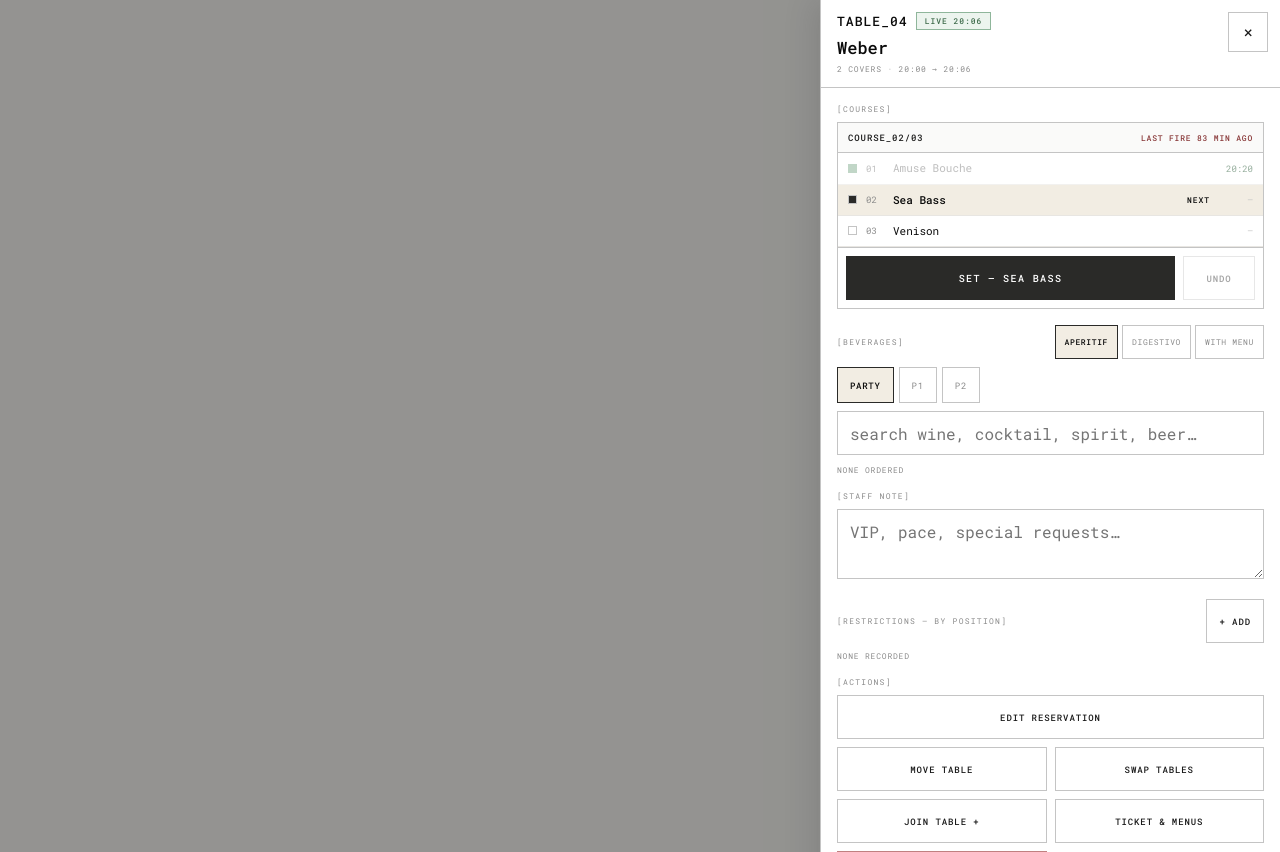
TableSheet — beverages › searches the whole catalog, not only wine
The width and height of the screenshot is (1280, 852).
Type "negro" into the field named "Search beverages" at (1050, 433), box [837,411,1264,455]
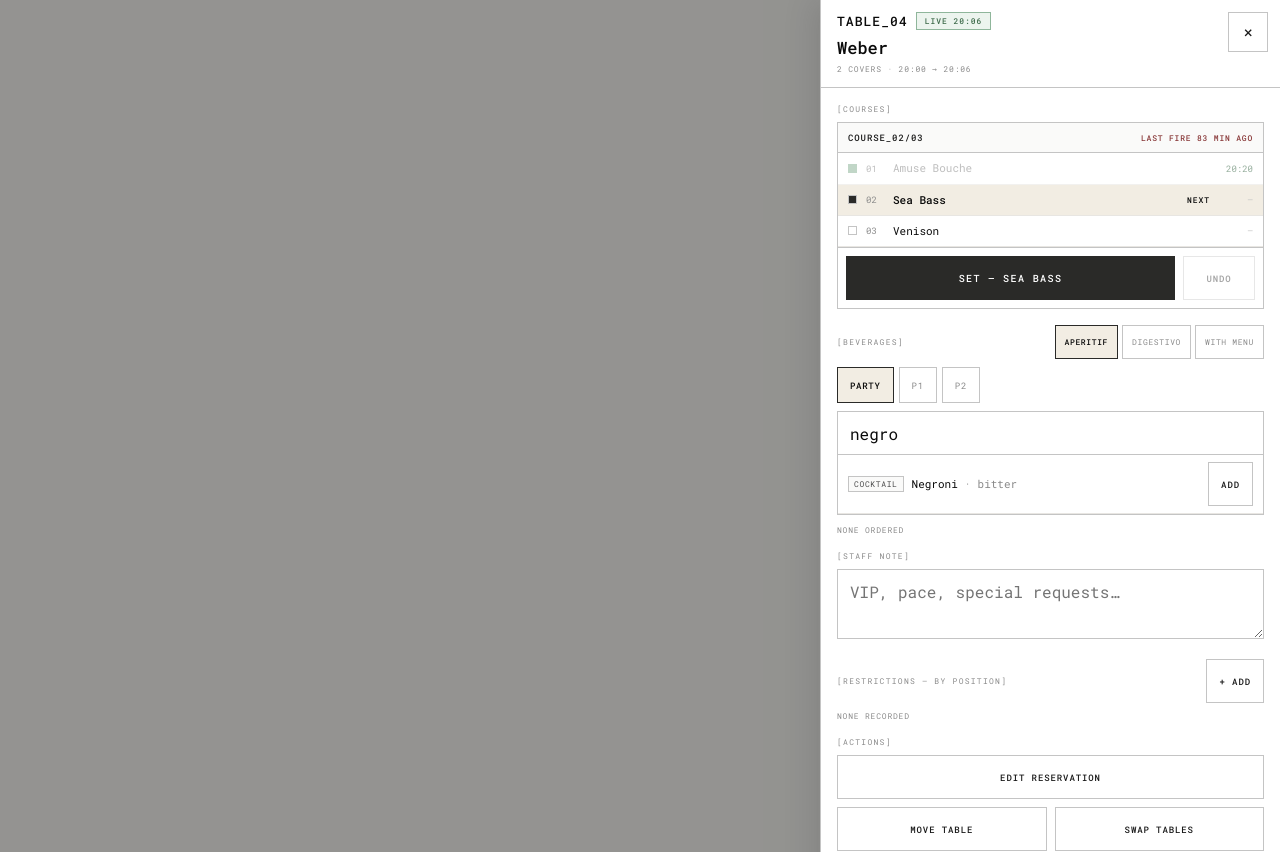
Result: the text "Negroni" is shown at [912,476,958,491]
Replace the text in the field named "Search beverages" with "human" at (1050, 433), box [837,411,1264,455]
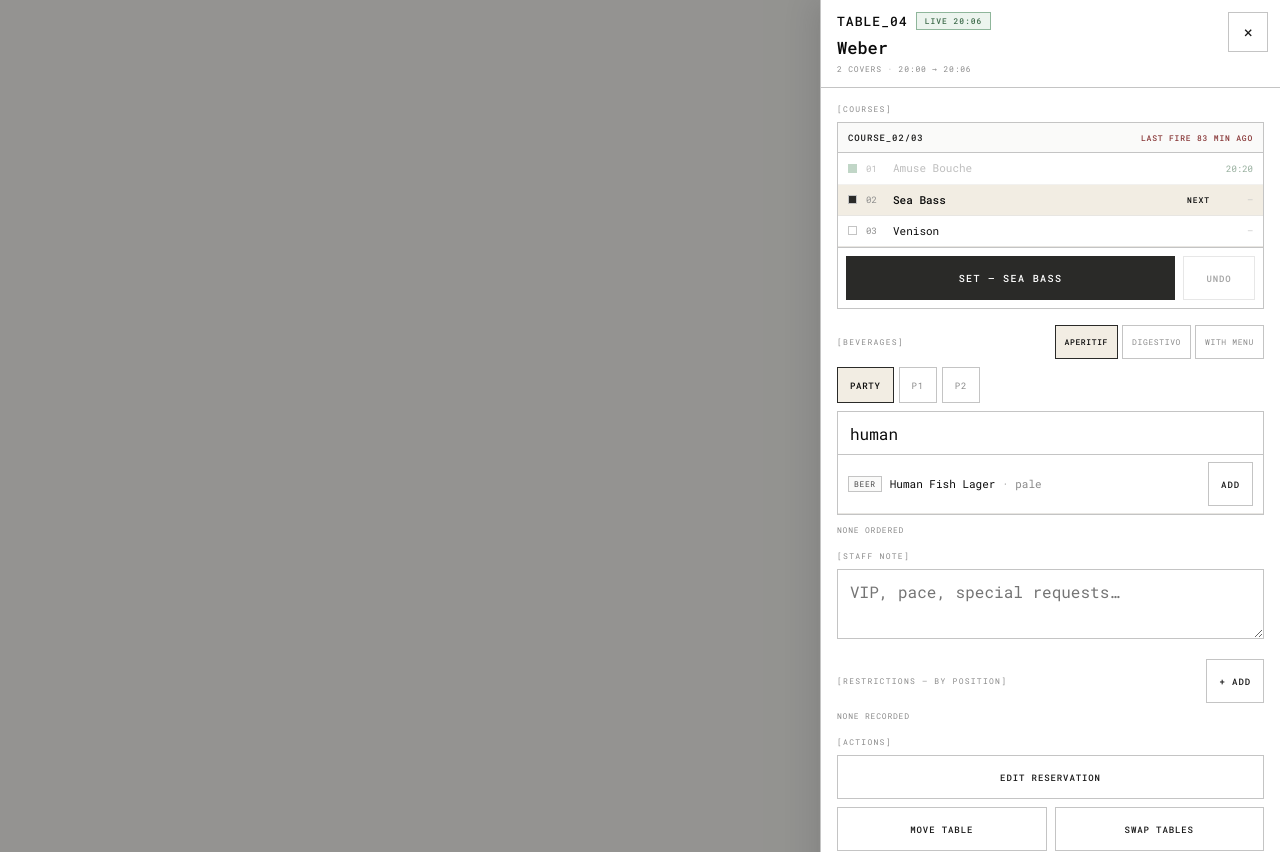
Result: the text "Human Fish Lager" is shown at [890,476,995,491]
Replace the text in the field named "Search beverages" with "negri" at (1050, 433), box [837,411,1264,455]
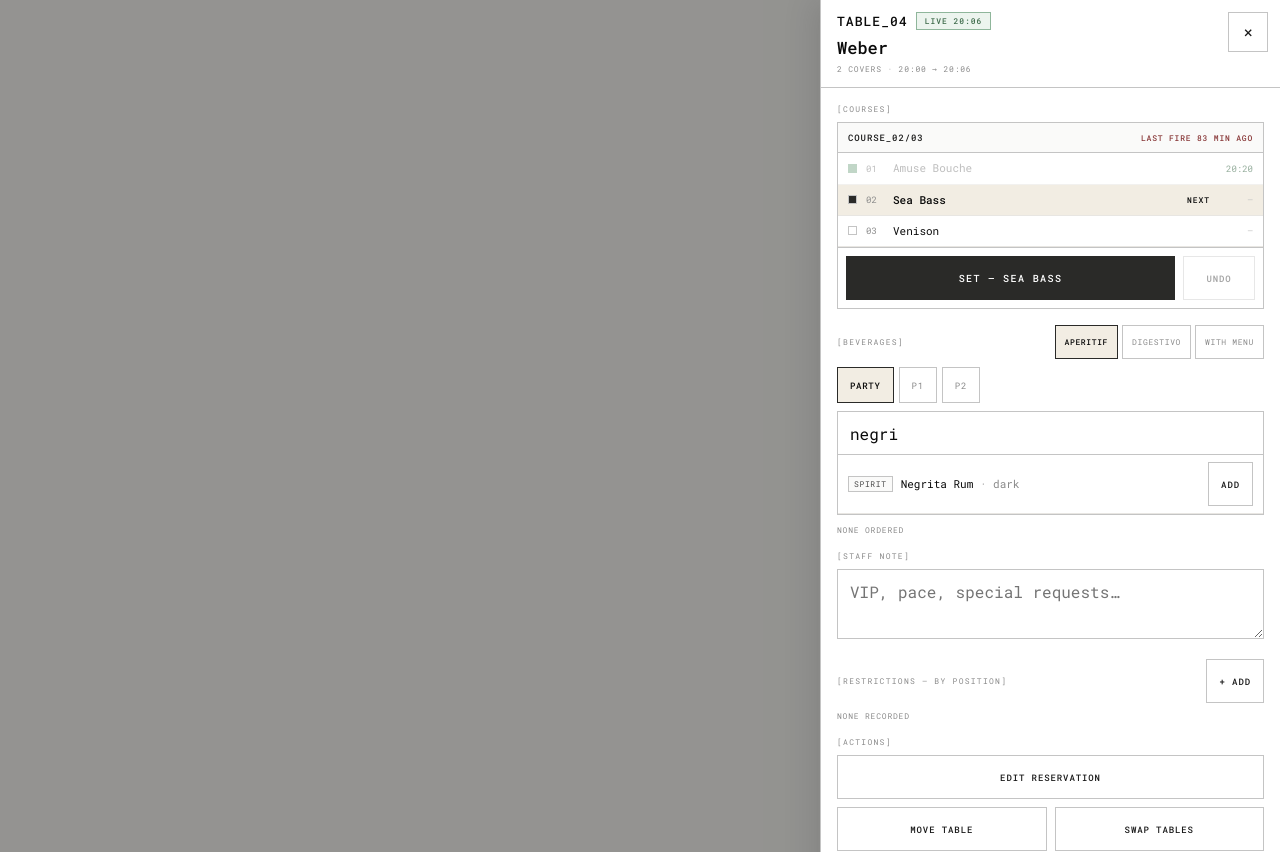
Result: the text "Negrita Rum" is shown at [901,476,973,491]
